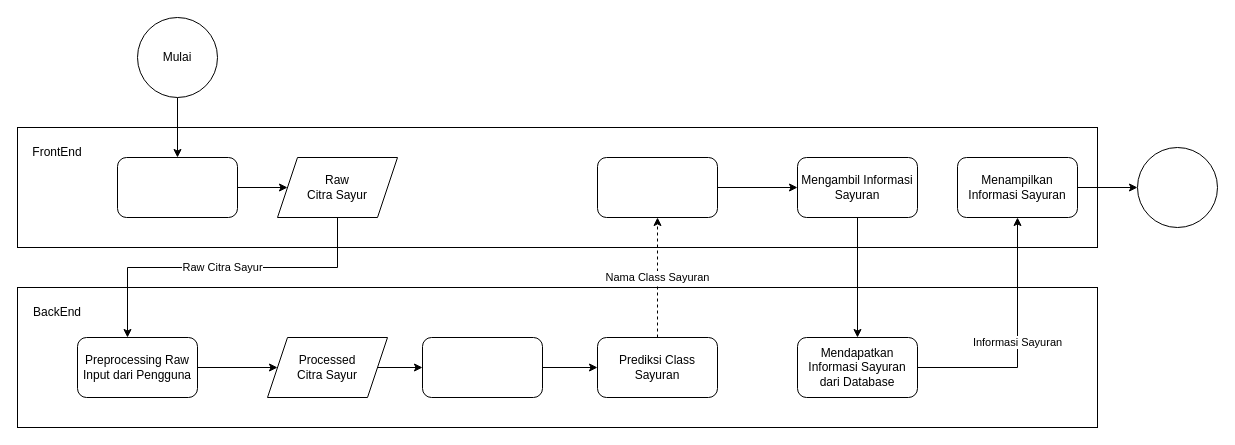
This 1235x445 diagram has some shape labels left out. Here are the shapes that lost their labels. From the top down, the centre of each, then its label:
At point 177,187: "Pengguna Mengirimkan Citra Sayur".
At point 657,187: "Menerima Nama Class Sayuran".
At point 1177,187: "Selesai".
At point 482,367: "Load Model".
